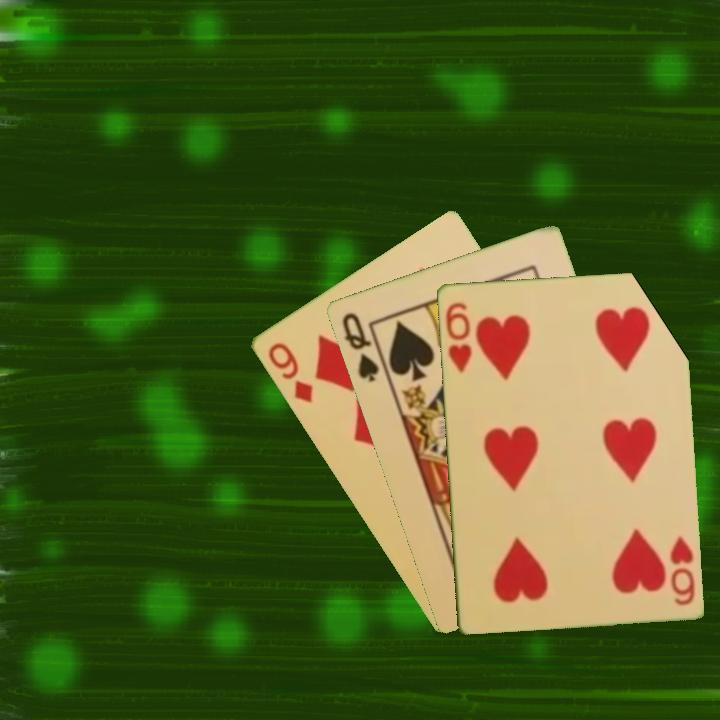6h: (442, 298, 474, 375), (666, 532, 697, 608)
9d: (264, 338, 316, 406)
Qs: (338, 309, 382, 385)
